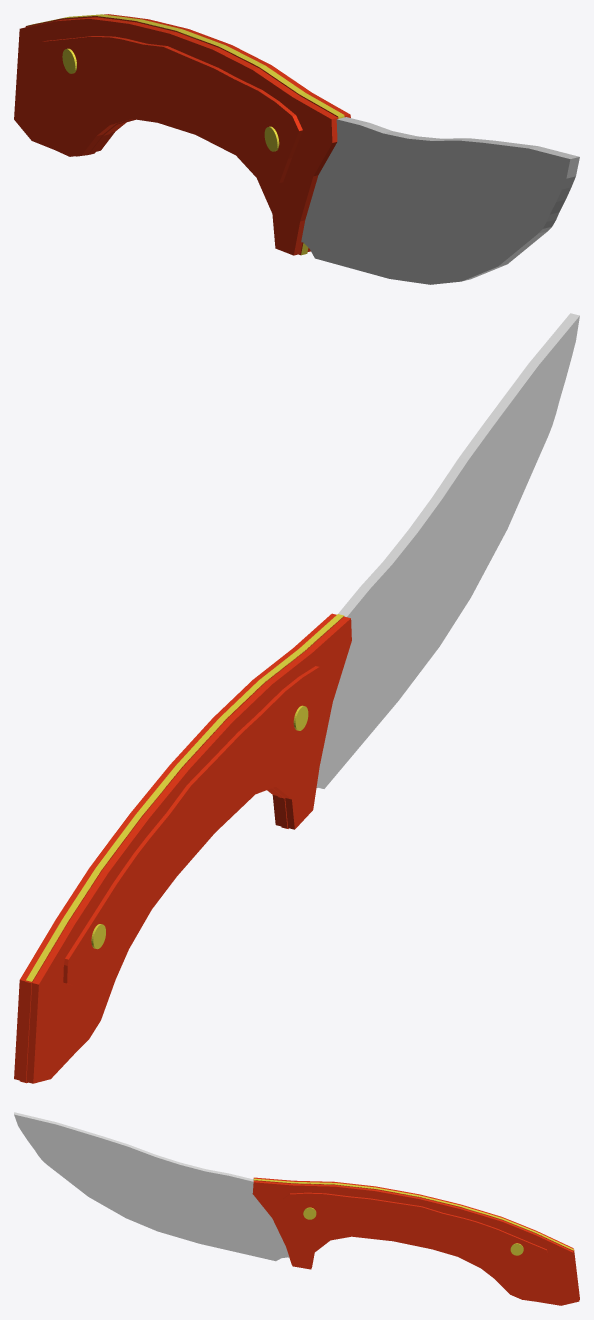
File: bcak.fbx
3 views of the same model, one above another, from view 1: azimuth 30°, elevation 25°; view 2: azimuth 150°, elevation 25°; view 3: azimuth 270°, elevation 25° (orthographic). The views are drawn at different scales.
Visible parts, largest first — view 1: Plane, Plane.002, Plane.003, Cylinder; view 2: Plane, Plane.002, Plane.003; view 3: Plane, Plane.002, Plane.003, Cylinder.
Part boxes in pixels (x1,y1,x2,y2): Plane: (14, 14, 350, 255); Plane.002: (301, 117, 579, 284); Plane.003: (27, 14, 344, 255); Cylinder: (62, 48, 279, 151); Plane: (14, 613, 351, 1083); Plane.002: (316, 313, 579, 788); Plane.003: (26, 614, 343, 981); Plane: (252, 1177, 579, 1305); Plane.002: (14, 1112, 289, 1261); Plane.003: (253, 1178, 573, 1250); Cylinder: (303, 1207, 523, 1255).
Size of the model in its own units: 498 by 16.04 by 185.
